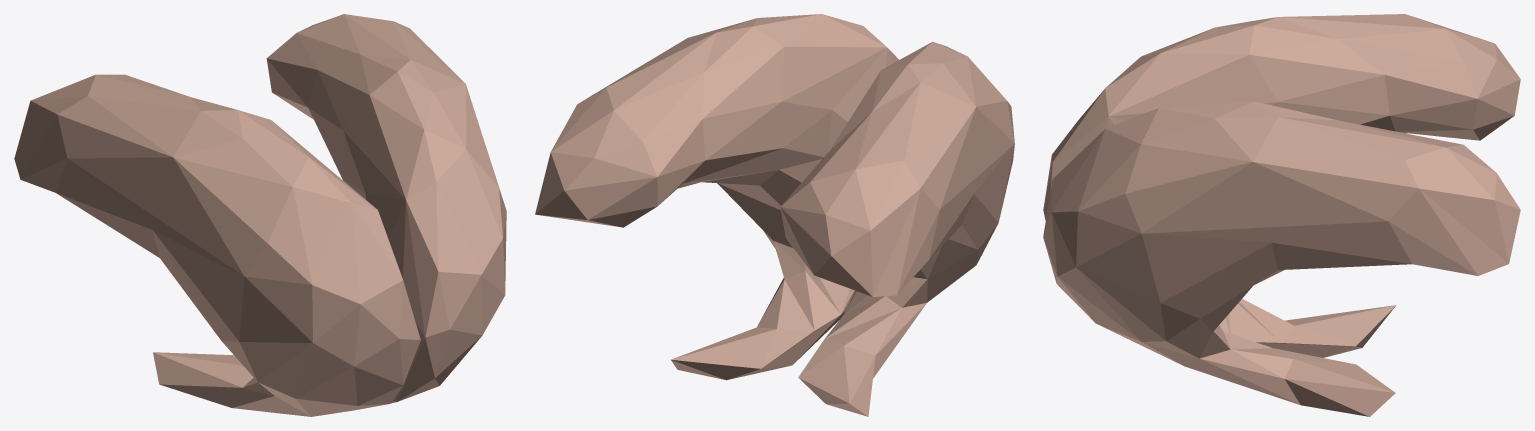
File: Alar_Cartilage.obj
The picture shows the model from 3 angles, left to right: view 1: azimuth 30°, elevation 25°; view 2: azimuth 150°, elevation 25°; view 3: azimuth 270°, elevation 25°; orthographic projection. The views are drawn at different scales.
Parts seen in each view (by area): view 1: Musculos_Cabeza_1:Alar_Cartilage1; view 2: Musculos_Cabeza_1:Alar_Cartilage1; view 3: Musculos_Cabeza_1:Alar_Cartilage1.
Boxes of the visible parts, left/top/right/bottom form: Musculos_Cabeza_1:Alar_Cartilage1: left=14, top=14, right=506, bottom=416; Musculos_Cabeza_1:Alar_Cartilage1: left=535, top=14, right=1014, bottom=416; Musculos_Cabeza_1:Alar_Cartilage1: left=1043, top=14, right=1520, bottom=416.
Bounding box in the file's own units: 0.1068 × 0.0897 × 0.1234.
